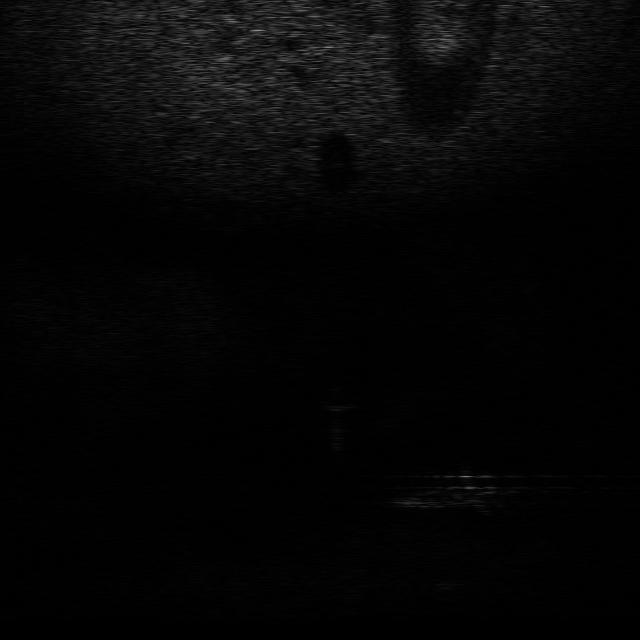ball: (315, 385, 361, 413)
tyre: (390, 472, 505, 512)
